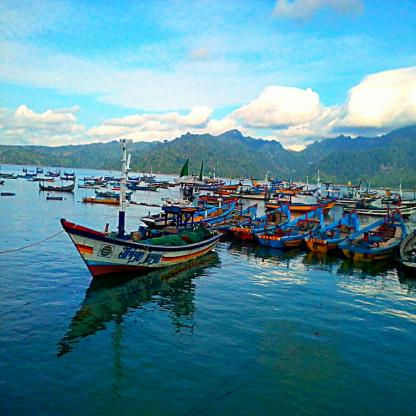fishing boat: (58, 221, 205, 288), (351, 213, 409, 262), (311, 210, 351, 254), (34, 181, 78, 193)
